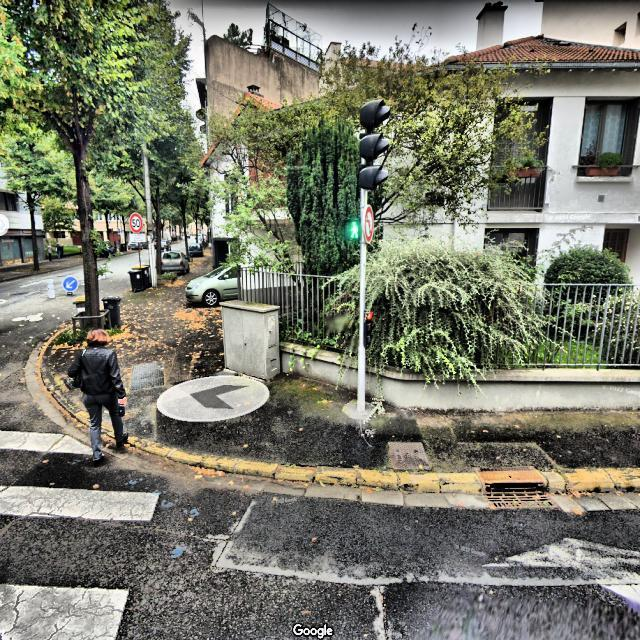green_light: (349, 219, 359, 238)
